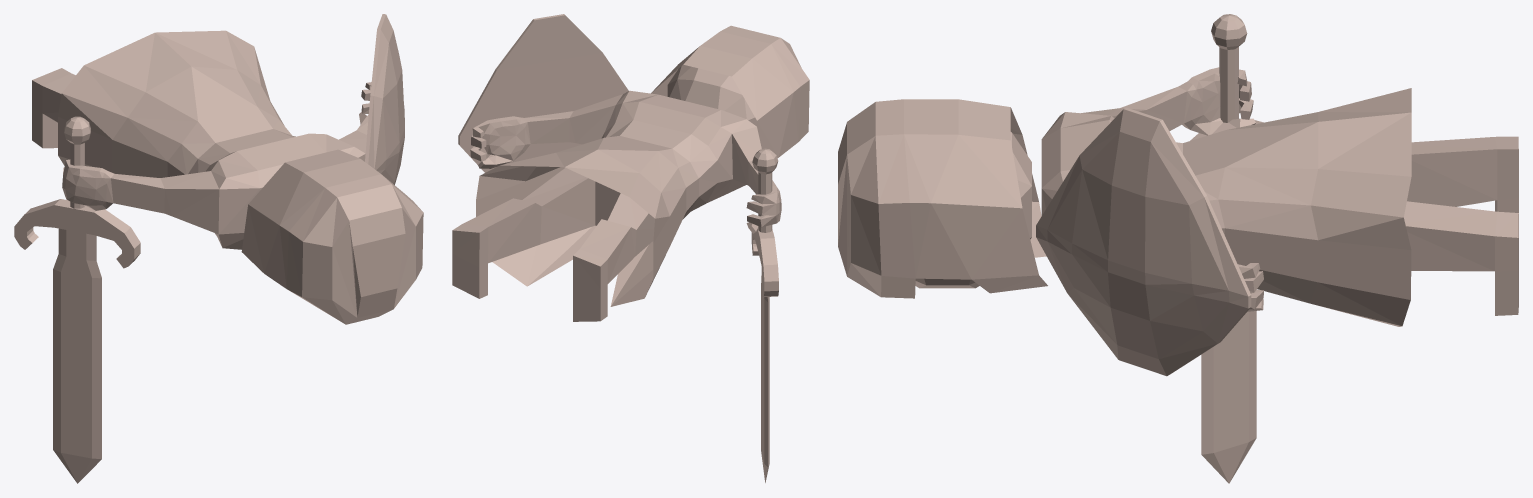
Rendered from knight.obj.
3 views of the same model, side by side, from view 1: azimuth 30°, elevation 25°; view 2: azimuth 150°, elevation 25°; view 3: azimuth 270°, elevation 25° (orthographic). The views are drawn at different scales.
Parts seen in each view (by area): view 1: knight; view 2: knight; view 3: knight.
Boxes of the visible parts, left/top/right/bottom form: knight: left=14, top=14, right=423, bottom=483; knight: left=452, top=14, right=809, bottom=482; knight: left=838, top=14, right=1518, bottom=483.
Size of the model in its own units: 7.03 by 7.69 by 8.81.
